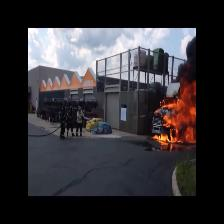fire: (158, 85, 196, 145)
smoke: (177, 35, 196, 80)
